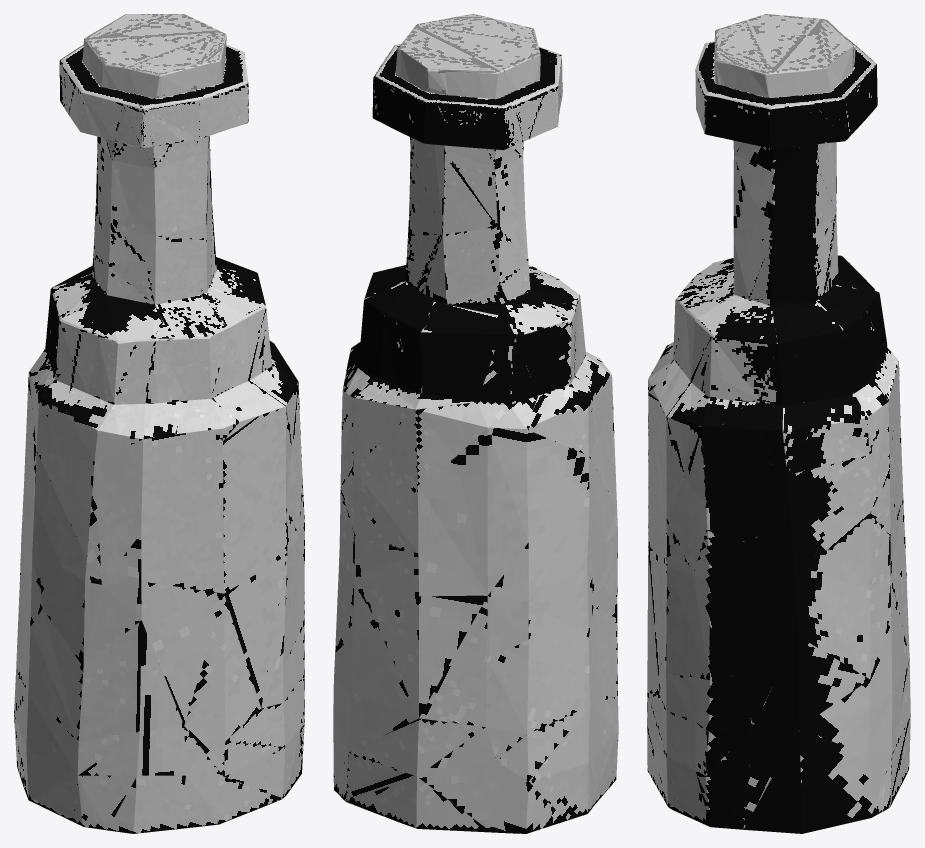
3 views of the same model, side by side, from view 1: azimuth 30°, elevation 25°; view 2: azimuth 150°, elevation 25°; view 3: azimuth 270°, elevation 25° (orthographic).
Parts seen in each view (by area): view 1: OBJ0ba; view 2: OBJ0ba; view 3: OBJ0ba.
Part boxes in pixels (x1,y1,x2,y2): OBJ0ba: [14, 14, 304, 833]; OBJ0ba: [333, 14, 618, 833]; OBJ0ba: [647, 14, 910, 833].
Bounding box in the file's own units: 0.126 × 0.3556 × 0.1161.
Materials: 1 (1 with a texture image).
